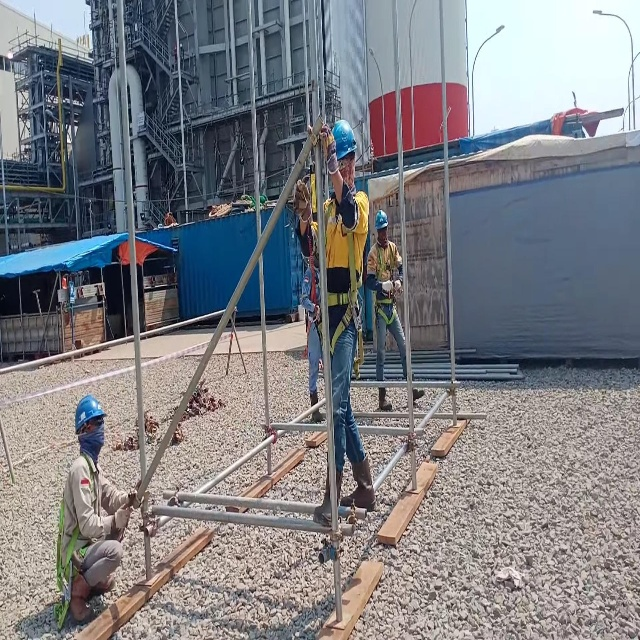Arnes_seguridad: (321, 193, 365, 379), (52, 452, 94, 632), (373, 234, 399, 331), (304, 262, 322, 347)
